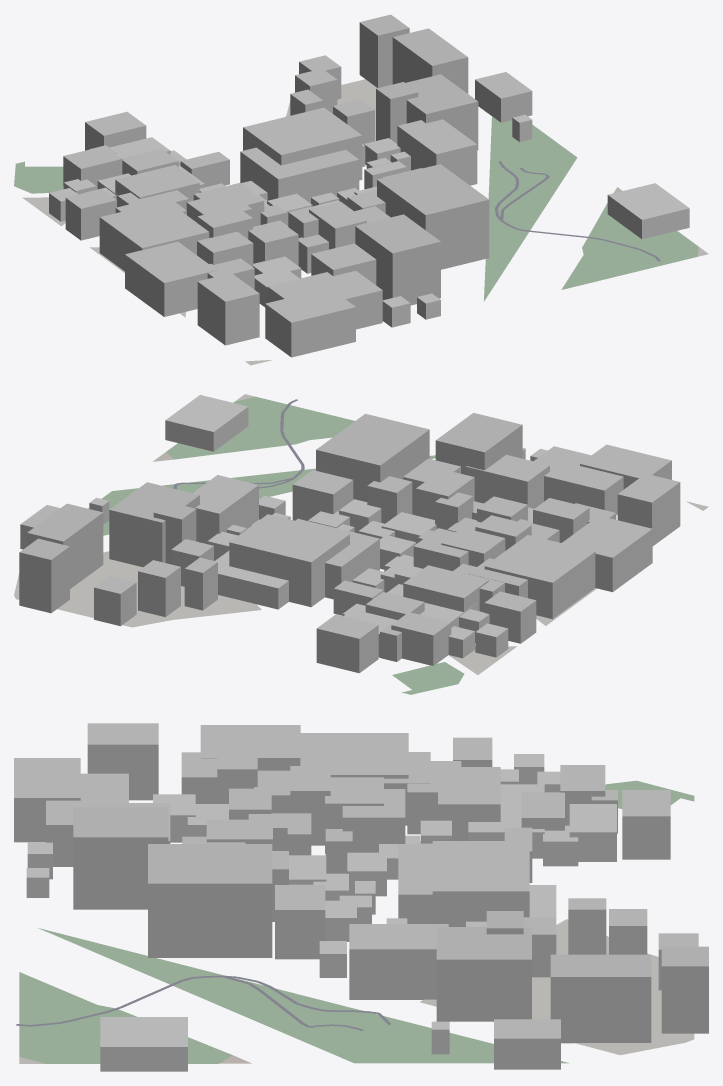
The model's file is 111_110_mid.glb.
The picture shows the model from 3 angles, top to bottom: view 1: azimuth 30°, elevation 25°; view 2: azimuth 150°, elevation 25°; view 3: azimuth 270°, elevation 25°; orthographic projection. The views are drawn at different scales.
Bounding box in the file's own units: 530 × 61.27 × 515.
